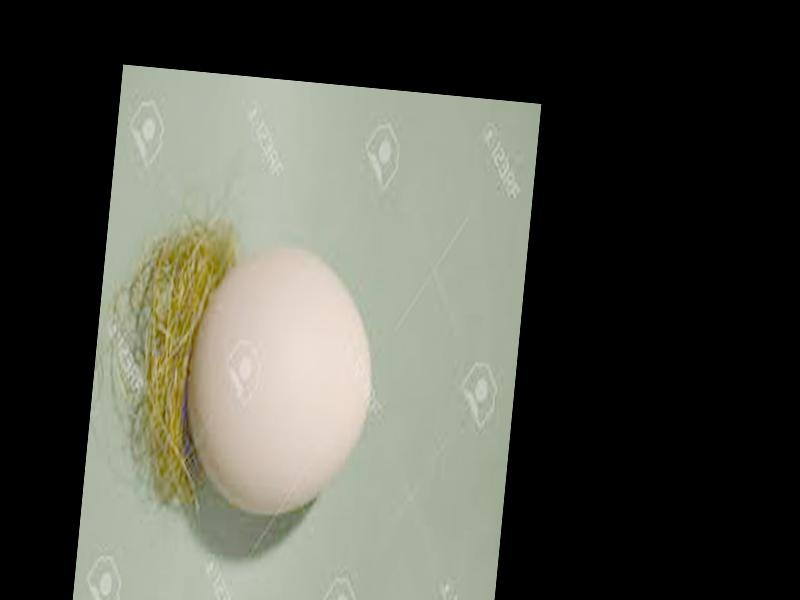Eggs: (179, 247, 380, 523)
